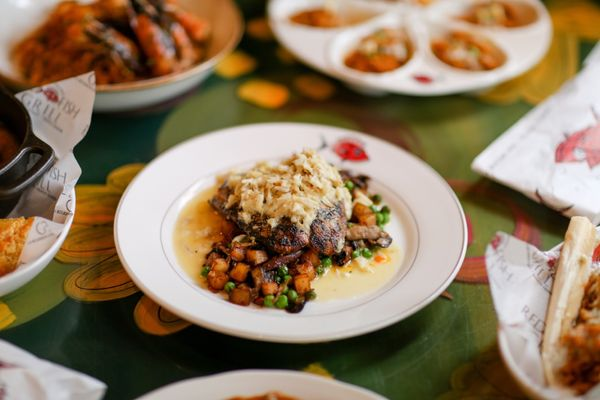sushi: (113, 121, 435, 343), (1, 0, 245, 118), (0, 207, 73, 307)
